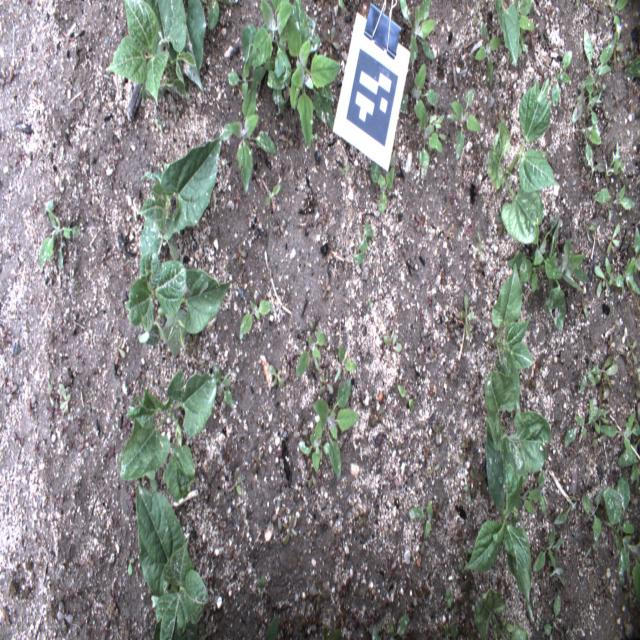crop: (463, 419, 534, 621), (135, 124, 234, 265), (119, 369, 217, 500), (487, 76, 562, 245), (125, 252, 234, 361), (136, 482, 208, 639), (103, 0, 205, 107), (489, 262, 534, 413), (484, 372, 550, 474), (474, 588, 529, 639), (495, 0, 534, 67)
weed: (241, 1, 341, 150), (506, 212, 590, 333), (231, 78, 278, 196), (314, 376, 361, 481), (602, 475, 640, 602), (39, 198, 82, 272), (601, 409, 639, 492), (570, 75, 602, 165), (578, 26, 618, 92), (393, 62, 438, 120), (398, 0, 437, 66), (447, 88, 481, 163), (564, 397, 612, 449), (296, 415, 332, 473), (419, 106, 447, 180), (474, 20, 502, 86), (532, 528, 564, 584), (228, 56, 268, 99), (239, 299, 274, 344), (517, 468, 547, 517), (296, 329, 326, 377), (370, 158, 394, 215), (581, 484, 604, 542), (579, 356, 618, 390), (594, 255, 624, 298), (551, 51, 572, 110), (212, 362, 234, 408), (408, 498, 432, 540), (334, 344, 358, 383), (354, 222, 376, 264), (208, 0, 237, 31), (460, 292, 476, 342), (317, 368, 334, 396), (396, 384, 414, 410), (269, 363, 284, 388), (383, 333, 402, 352), (60, 382, 70, 413)
